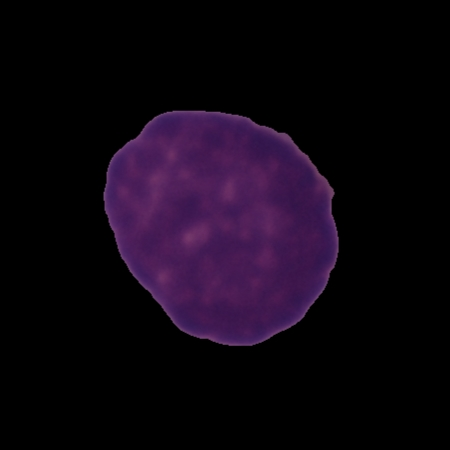HEM: (99, 106, 342, 350)
